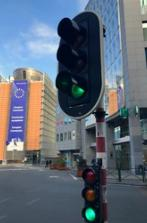green_light: (56, 11, 104, 119), (81, 165, 102, 223)
